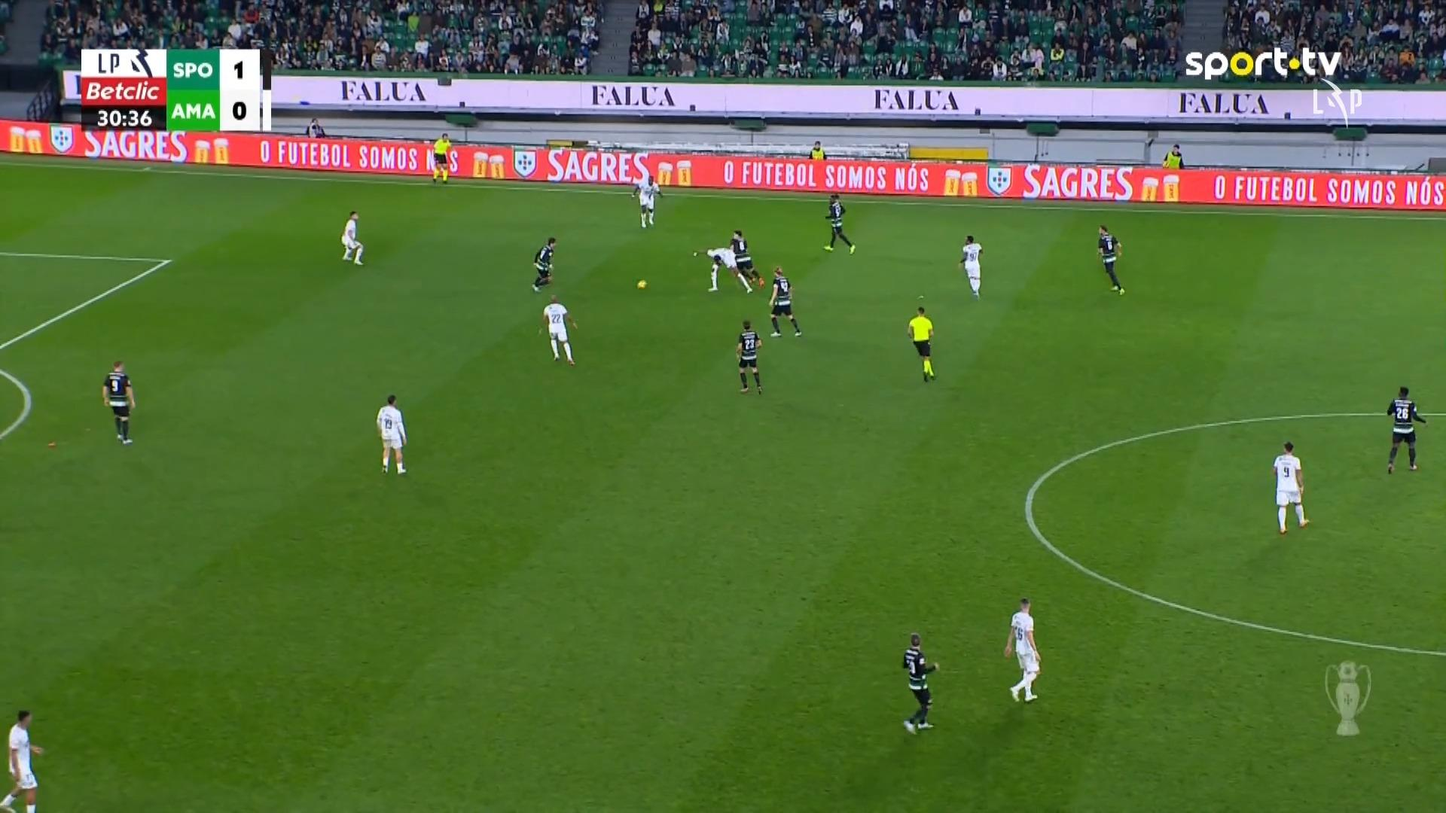ball: (636, 279, 646, 289)
player: (0, 708, 44, 811), (1003, 597, 1042, 702), (901, 632, 939, 734), (1385, 385, 1426, 473), (1271, 440, 1309, 534), (101, 360, 136, 444), (693, 245, 752, 293), (538, 294, 577, 366), (376, 394, 407, 475), (767, 266, 801, 337), (734, 319, 763, 394), (729, 229, 764, 290), (822, 193, 856, 254), (1096, 224, 1124, 294), (633, 173, 662, 228), (959, 234, 983, 299), (531, 236, 557, 292), (340, 210, 364, 265)
referee: (907, 306, 935, 382), (431, 132, 452, 184)
